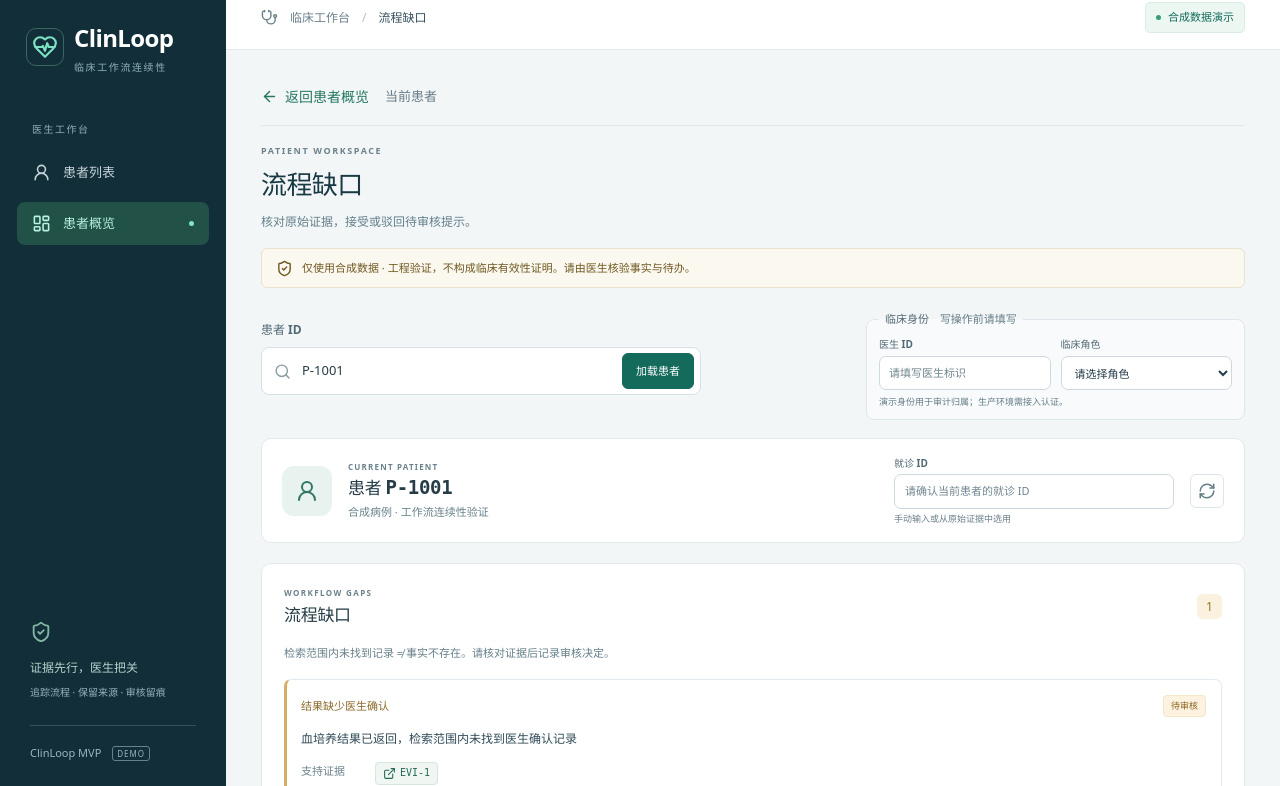
Scenario: finding review › requires explicitly entered clinician identity
The width and height of the screenshot is (1280, 786).
Expected: the text "血培养结果已返回，检索范围内未找到医生确认记录" is shown, [301, 730, 577, 746]
Step 1. Type "DR-EXPLICIT" into the field labelled "医生 ID" → (965, 373), box [879, 356, 1050, 390]
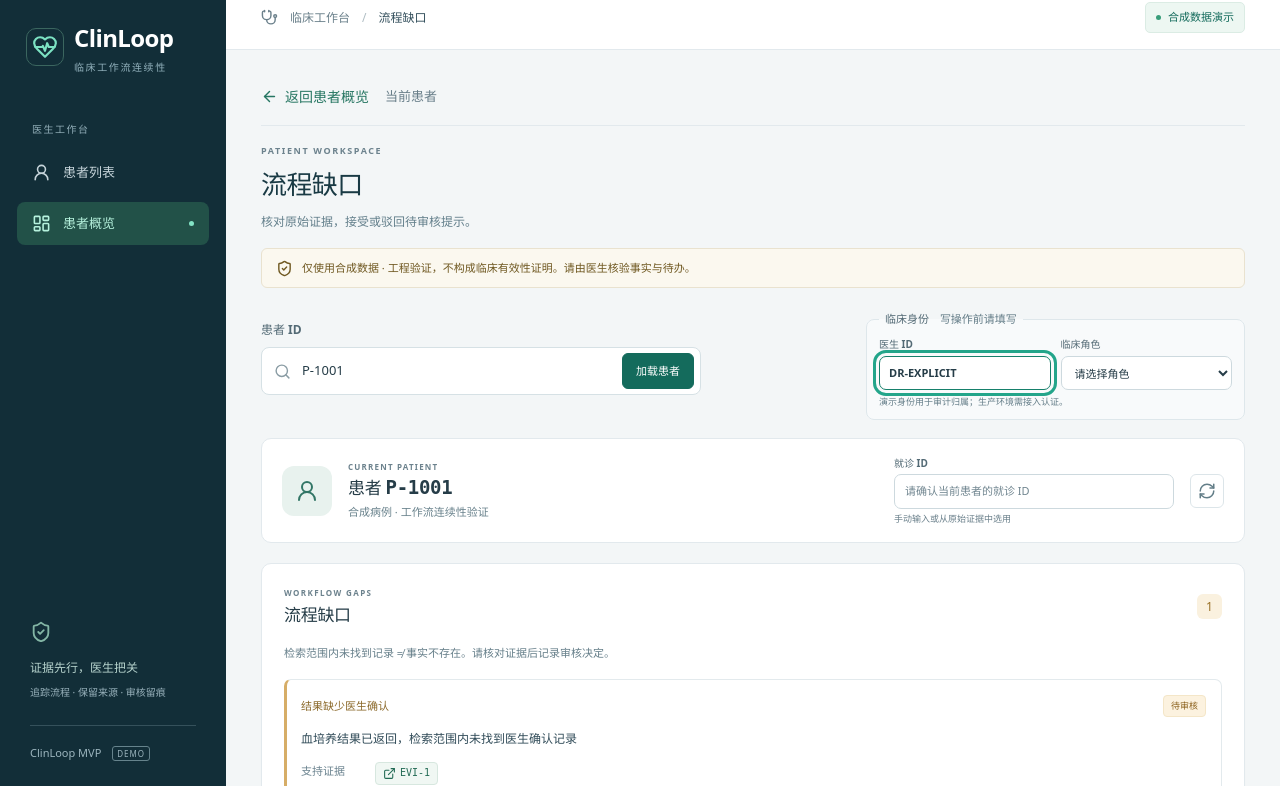
Step 2. Select "医生 · PHYSICIAN" in the dropdown labelled "临床角色" → (1146, 373), box [1060, 356, 1232, 390]
(page scrolled)
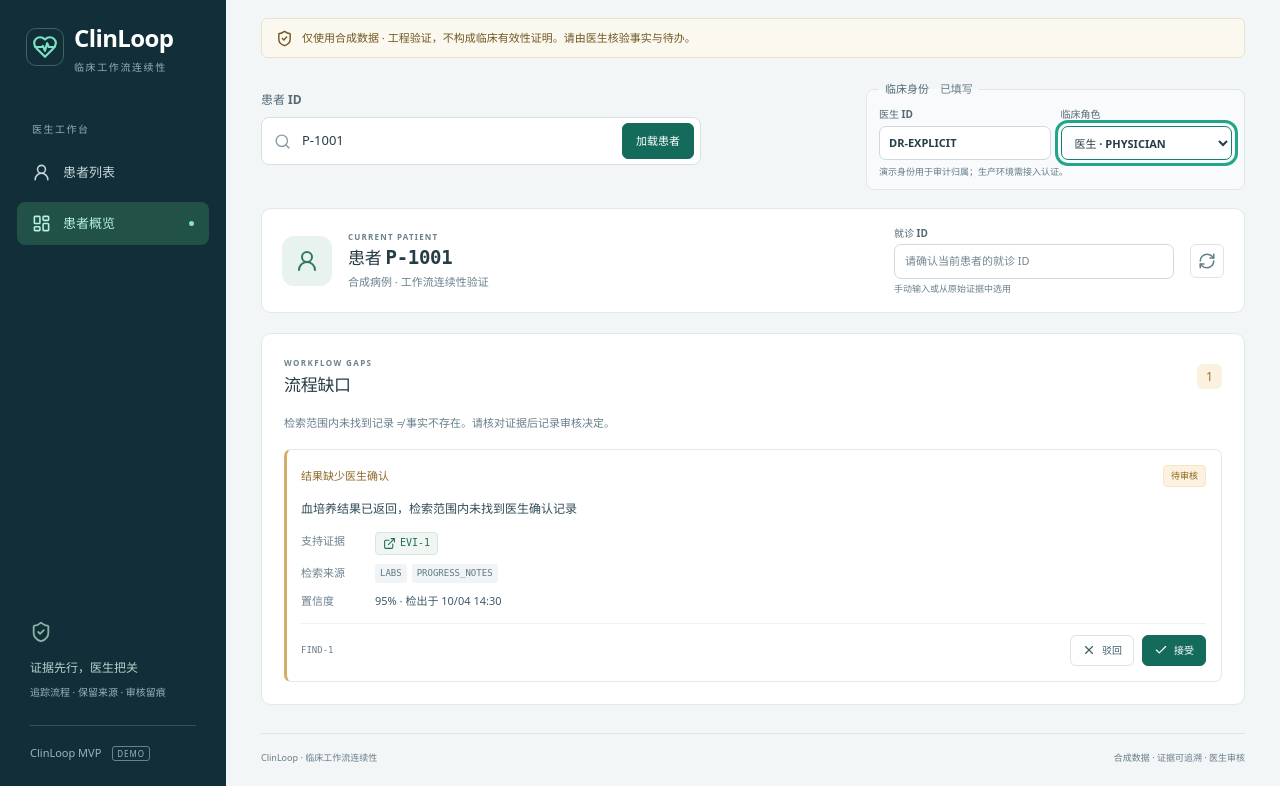
Expected: the button "接受" is enabled, [1142, 635, 1206, 666]
